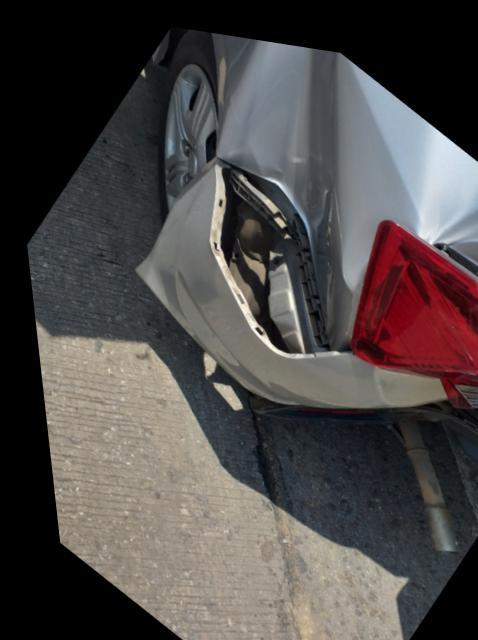dent: (216, 32, 339, 311), (412, 110, 478, 271)
dislocated part: (129, 163, 449, 406)
lamp broken: (341, 208, 478, 366)
